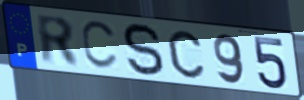5: (251, 34, 289, 91)
9: (212, 31, 246, 86)
C: (165, 28, 206, 80), (80, 20, 120, 72)
R: (33, 13, 82, 70)
S: (121, 21, 166, 79)
